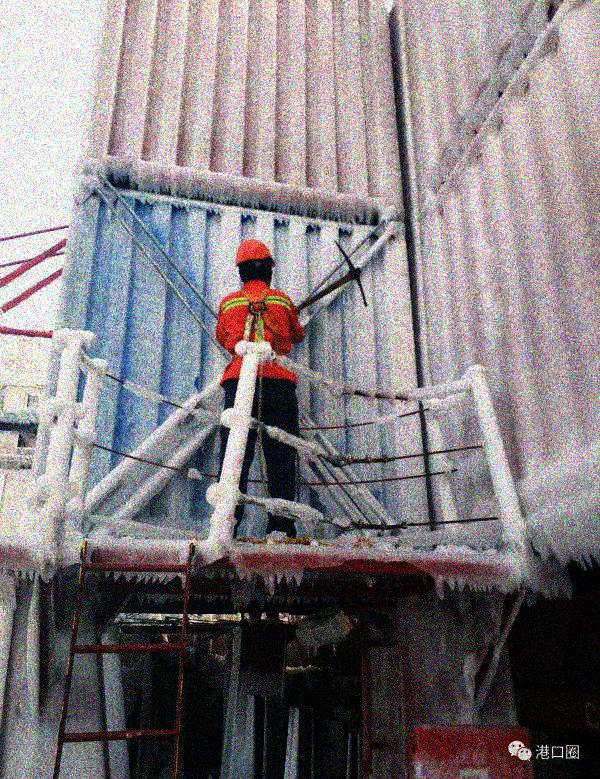helmet: (235, 239, 279, 290)
